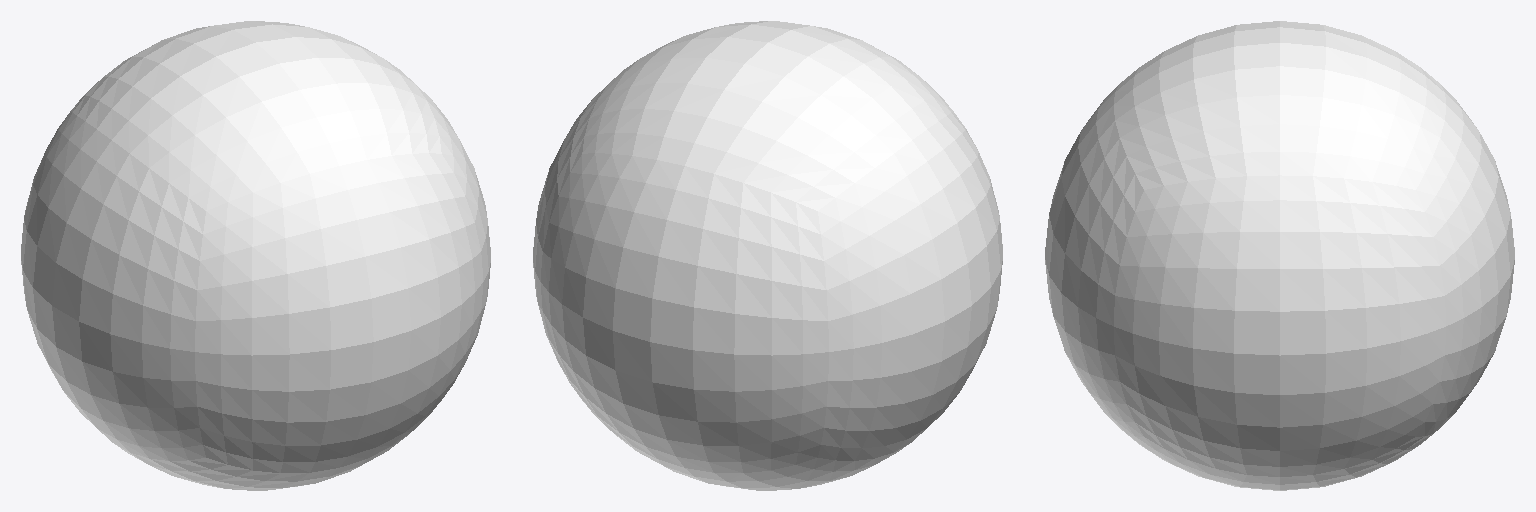
The model's file is star_core.obj.
The picture shows the model from 3 angles: view 1: azimuth 30°, elevation 25°; view 2: azimuth 150°, elevation 25°; view 3: azimuth 270°, elevation 25°; orthographic projection.
Visible parts, largest first — view 1: Cube; view 2: Cube; view 3: Cube.
Boxes of the visible parts, x1,y1,x2,y2 form: Cube: [21, 21, 490, 490]; Cube: [533, 21, 1002, 490]; Cube: [1045, 21, 1514, 490].
Size of the model in its own units: 2.57 by 2.57 by 2.57.